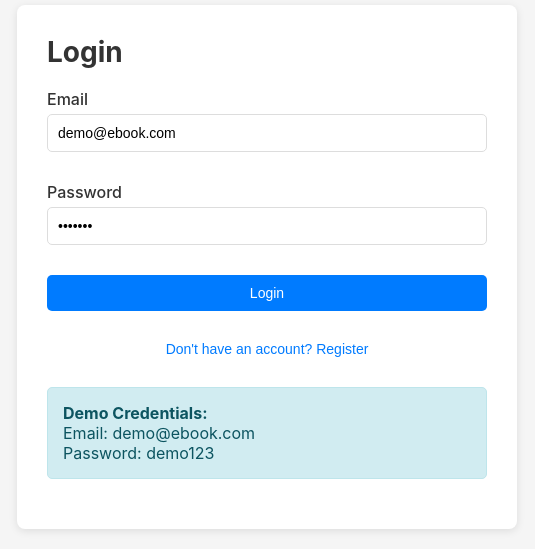
Test: Login Component › switches to register form
Click the button "Don't have an account? Register" at (267,349), box [146, 331, 388, 367]
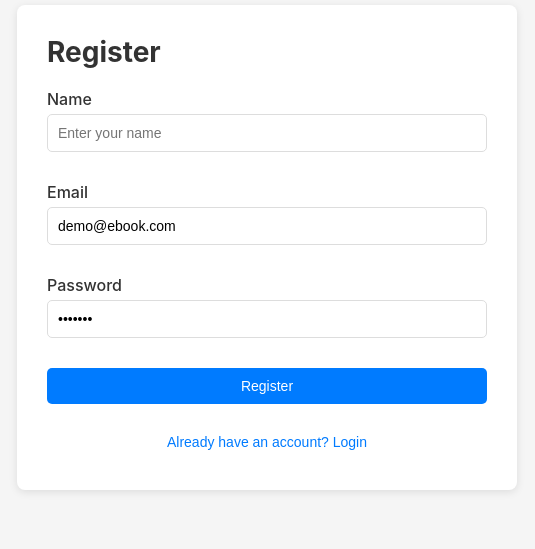
Expected: the heading "Register" is shown, [47, 35, 161, 69]
Expected: the field labelled "Name" is shown, [47, 114, 487, 152]
